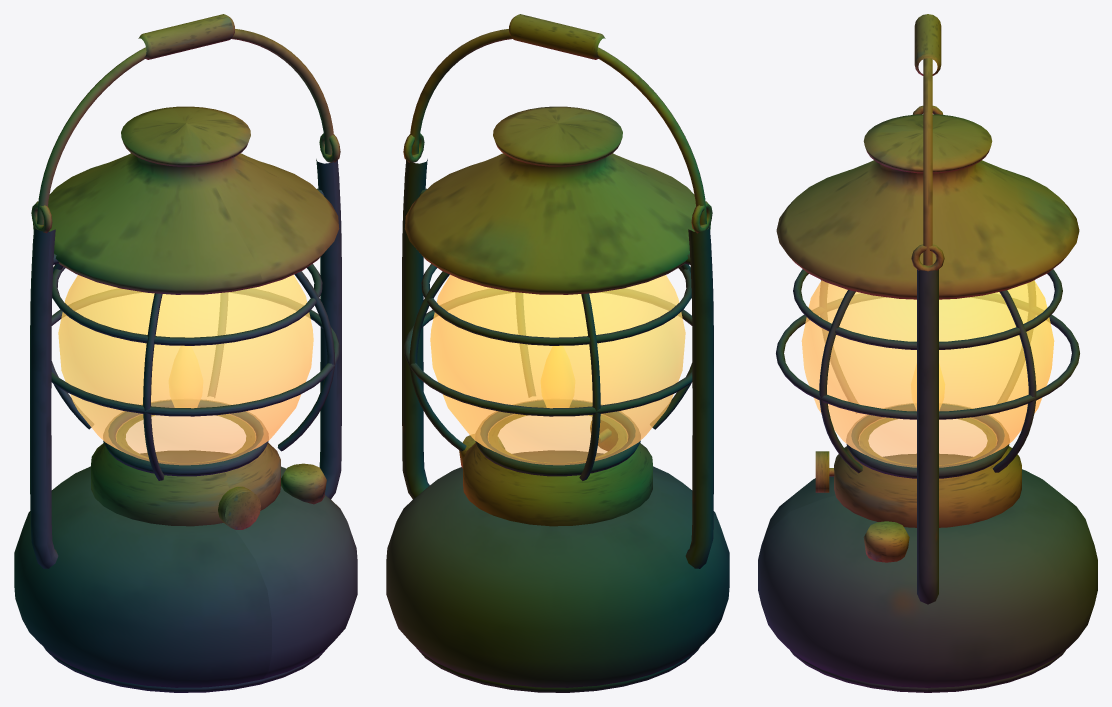
File: lantern-collider-deleted.glb
3 renders of one model, left to right at view 1: azimuth 30°, elevation 25°; view 2: azimuth 150°, elevation 25°; view 3: azimuth 270°, elevation 25°, orthographic.
Visible parts, largest first — view 1: prop-lantern-brass_lod0; view 2: prop-lantern-brass_lod0; view 3: prop-lantern-brass_lod0.
Part boxes in pixels (x1,y1,x2,y2): prop-lantern-brass_lod0: (14, 14, 357, 692); prop-lantern-brass_lod0: (386, 14, 729, 692); prop-lantern-brass_lod0: (758, 14, 1097, 692).
Size of the model in its own units: 0.1538 by 0.2874 by 0.148.
2 materials, 1 textured.
